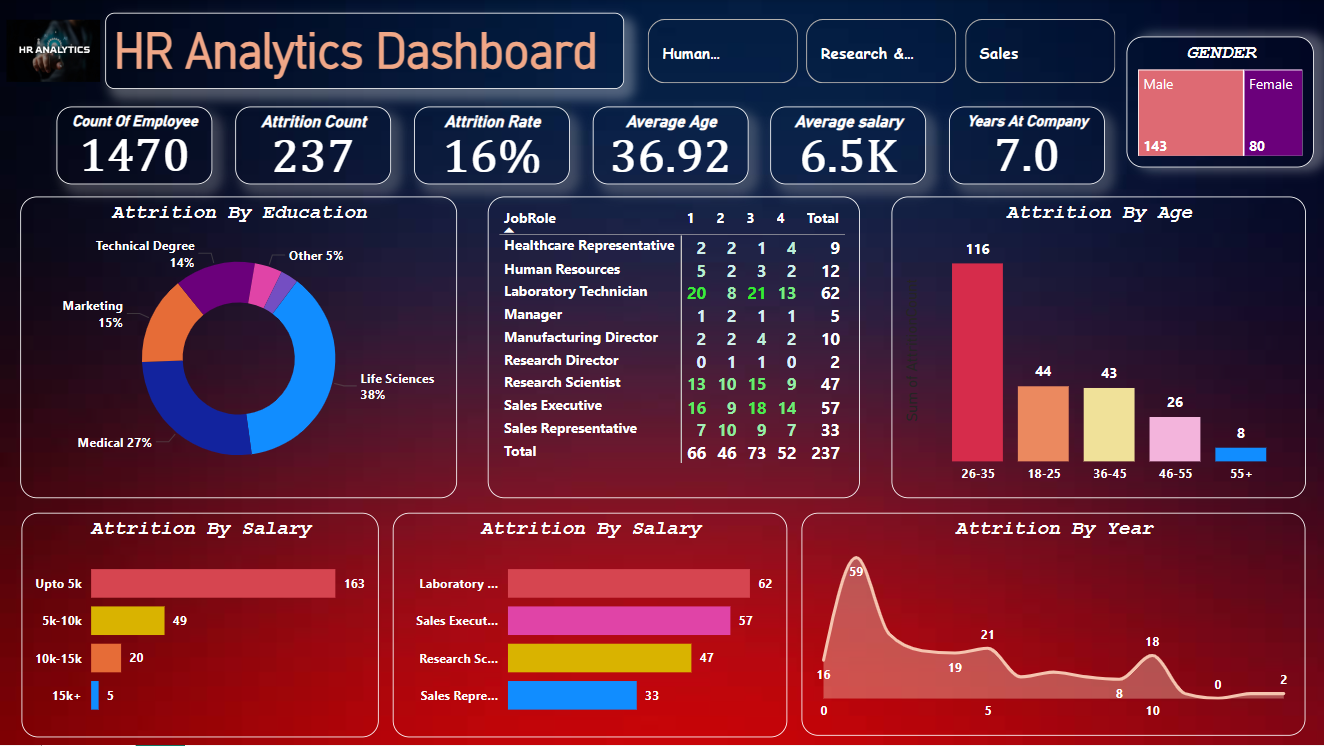

This screenshot's page, from the dashboard's own definition file:
{"tool":"powerbi","page":{"name":"Page 1","canvas":[1280,720],"ordinal":0},"visuals":[{"type":"card","title":"Count Of Employee ","fields":{"Values":["Count(HR_Analytics.EmpID)"]},"box":[55.7,103.3,150,75],"z":0},{"type":"card","title":"Attrition Rate","fields":{"Values":["HR_Analytics.AttritionRate"]},"box":[400.2,103.9,150,75],"z":1000},{"type":"card","title":"Attrition Count ","fields":{"Values":["Sum(HR_Analytics.AttritionCount)"]},"box":[228,103.9,150,75],"z":2000},{"type":"card","title":"Average Age  ","fields":{"Values":["Avg(HR_Analytics.Age)"]},"box":[572.5,103.9,150,75],"z":3000},{"type":"card","title":"Years At Company","fields":{"Values":["Avg(HR_Analytics.YearsAtCompany)"]},"box":[917,103.9,150,75],"z":4000},{"type":"card","title":"Average salary  ","fields":{"Values":["Avg(HR_Analytics.MonthlyIncome)"]},"box":[744.8,103.9,150,75],"z":5000},{"type":"donutChart","title":"Attrition By Education ","fields":{"Y":["Sum(HR_Analytics.AttritionCount)"],"Category":["HR_Analytics.EducationField"]},"box":[20.2,190.4,421.3,291.4],"z":6000},{"type":"columnChart","title":"Attrition By Age","fields":{"Category":["HR_Analytics.AgeGroup"],"Y":["Sum(HR_Analytics.AttritionCount)"]},"box":[861.3,190.4,399.6,291.4],"z":7000},{"type":"pivotTable","fields":{"Rows":["HR_Analytics.JobRole"],"Values":["Sum(HR_Analytics.AttritionCount)"],"Columns":["HR_Analytics.JobSatisfaction"]},"box":[471.8,190.4,359.2,291.4],"z":8000},{"type":"barChart","title":"Attrition By Salary","fields":{"Category":["HR_Analytics.SalarySlab"],"Y":["Sum(HR_Analytics.AttritionCount)"]},"box":[21.6,496.3,344.8,216.4],"z":9000},{"type":"barChart","title":"Attrition By Salary","fields":{"Category":["HR_Analytics.JobRole"],"Y":["Sum(HR_Analytics.AttritionCount)"]},"box":[380.2,496.3,380.9,216.4],"z":10000},{"type":"areaChart","title":"Attrition By Year","fields":{"Category":["HR_Analytics.YearsAtCompany"],"Y":["Sum(HR_Analytics.AttritionCount)"]},"box":[774.8,496.3,486.2,215],"z":11000},{"type":"treemap","title":"GENDER ","fields":{"Group":["HR_Analytics.Gender"],"Values":["Sum(HR_Analytics.AttritionCount)"]},"box":[1088.2,36.2,181,126.7],"z":12000},{"type":"advancedSlicerVisual","fields":{"Values":["HR_Analytics.Department"]},"box":[626.1,14.5,452.4,72.4],"z":13000},{"type":"textbox","box":[102.5,13.3,500.7,73.6],"z":14000},{"type":"image","box":[2.4,0,100.1,100.1],"z":15000}]}

Visuals, with their boxes in screenshot pixels (x1, y1, x2, y2), scaled from the page's 1280x720 canvas onto the 1324x746 screenshot:
"Count Of Employee " card: region(58, 107, 213, 185)
"Attrition Rate" card: region(414, 108, 569, 185)
"Attrition Count " card: region(236, 108, 391, 185)
"Average Age  " card: region(592, 108, 747, 185)
"Years At Company" card: region(949, 108, 1104, 185)
"Average salary  " card: region(770, 108, 926, 185)
"Attrition By Education " donutChart: region(21, 197, 457, 499)
"Attrition By Age" columnChart: region(891, 197, 1304, 499)
pivotTable - HR_Analytics.JobRole x Sum(HR_Analytics.AttritionCount): region(488, 197, 860, 499)
"Attrition By Salary" barChart: region(22, 514, 379, 738)
"Attrition By Salary" barChart: region(393, 514, 787, 738)
"Attrition By Year" areaChart: region(801, 514, 1304, 737)
"GENDER " treemap: region(1126, 38, 1313, 169)
advancedSlicerVisual - HR_Analytics.Department: region(648, 15, 1116, 90)
textbox: region(106, 14, 624, 90)
image: region(2, 0, 106, 104)
